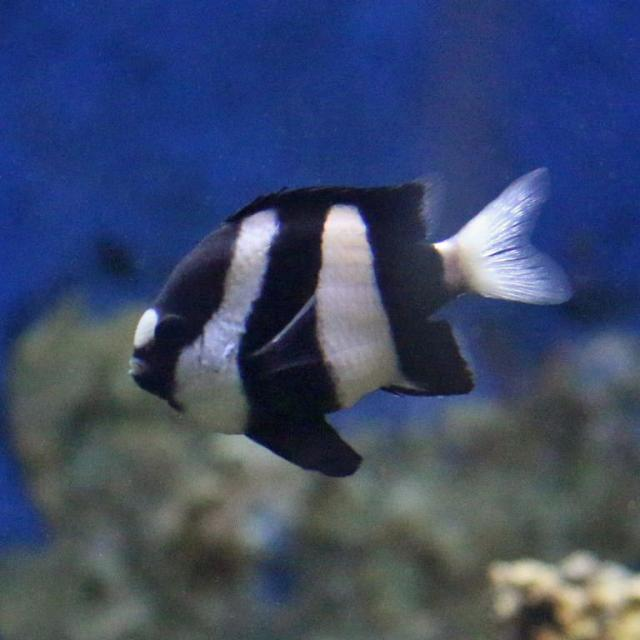ThreeStripedDamselfish: (128, 168, 575, 478)
